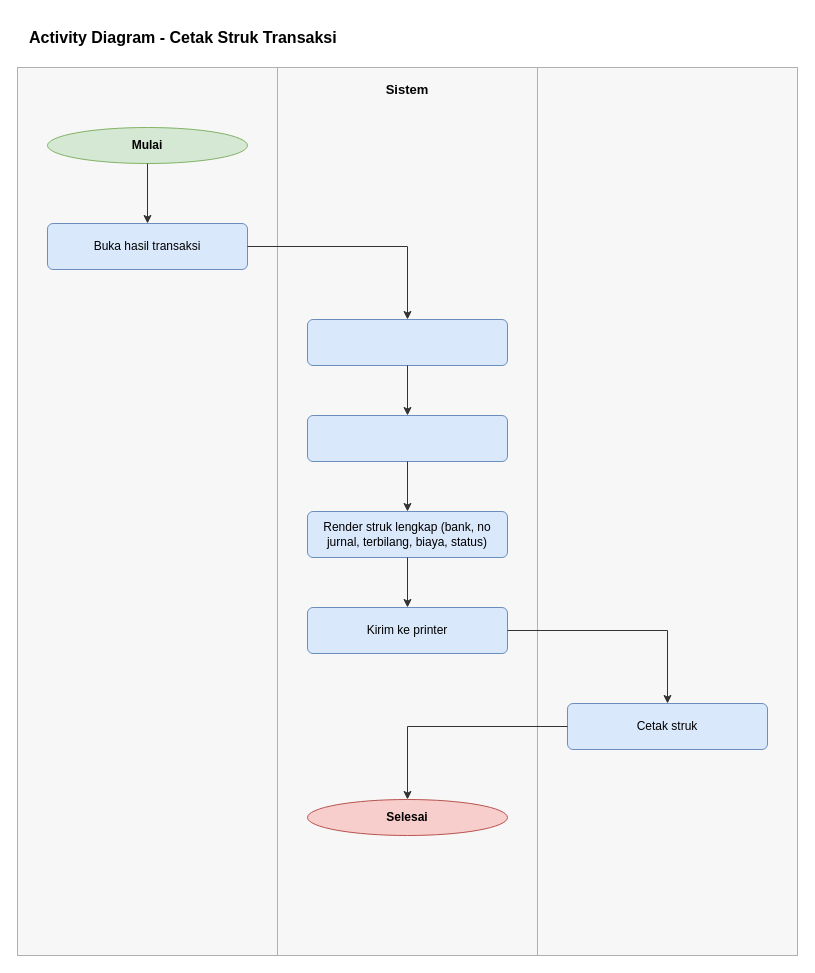
This 815x973 diagram has some shape labels left out. The box of each missing label's shape, as (x1, y1, x2, y2) in pixels:
Authorize view transaksi: (306, 318, 508, 366)
Muat relasi (nasabah, teller, jurnal): (306, 414, 508, 462)
Printer: (536, 66, 798, 956)
Teller: (16, 66, 278, 956)
